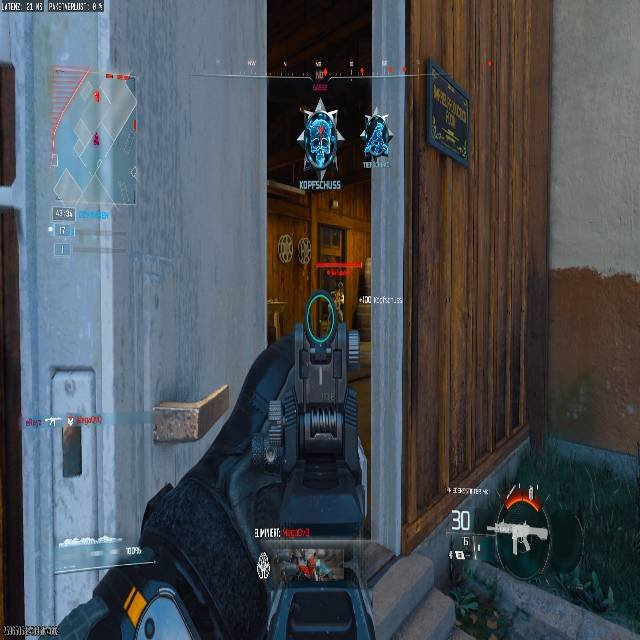head: (303, 292, 340, 337)
